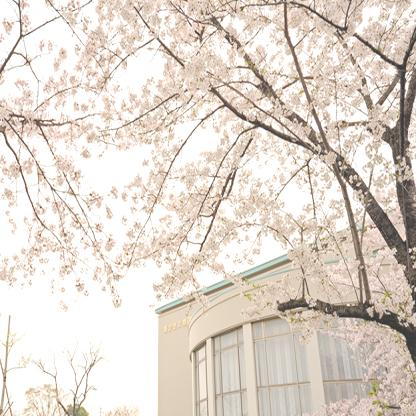Someiyoshino: (1, 2, 414, 413)
